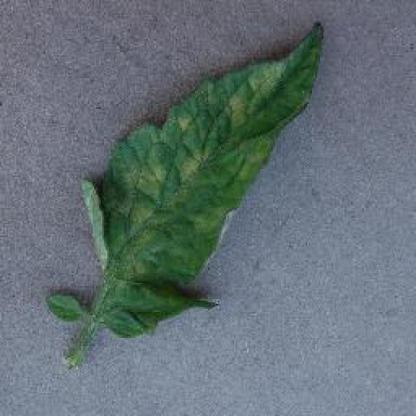Tomato_Leaf_Mold: (49, 22, 326, 342)
